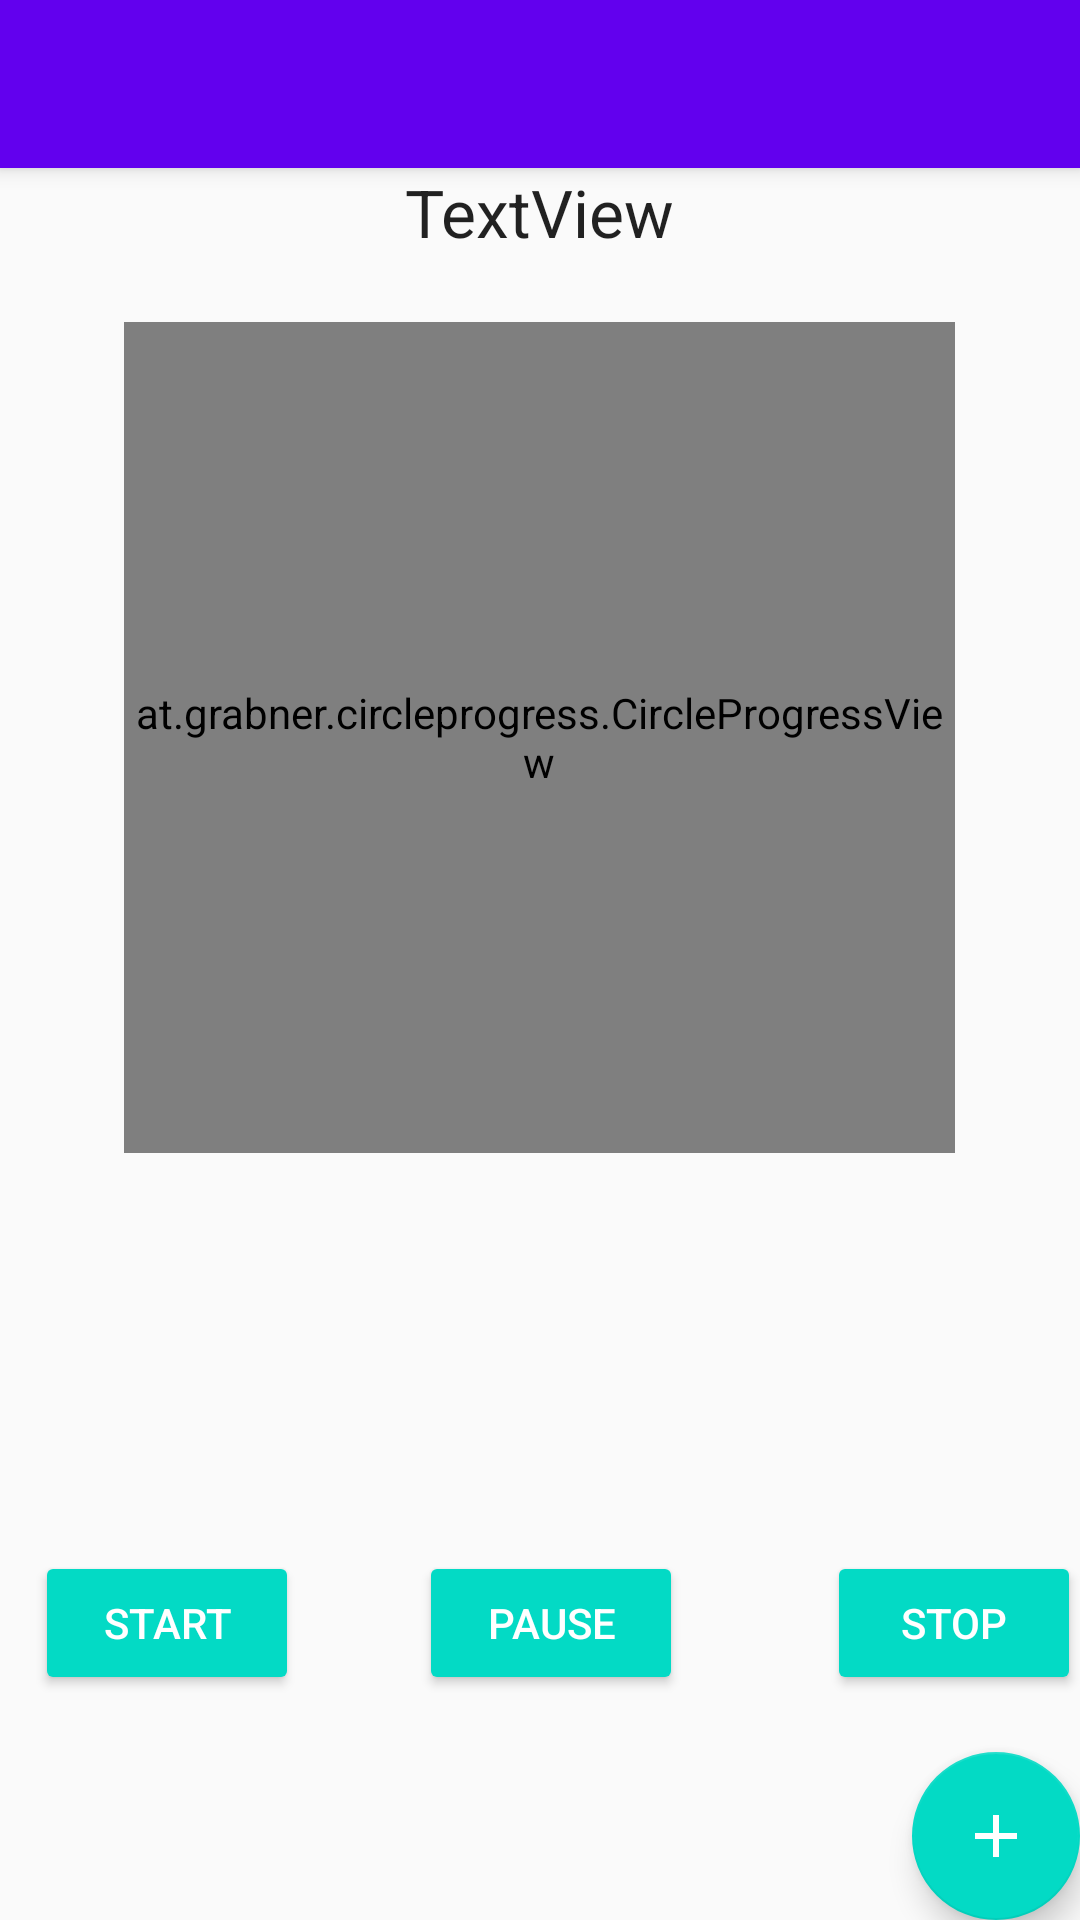

Where icons sit on this 1080*1920 app screen, as (x1, y1, x2, y2):
addicon: (912, 1752, 1080, 1920)
